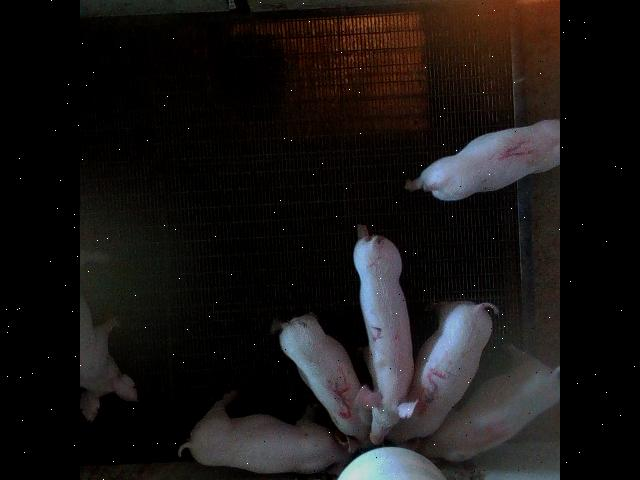pig-1: (420, 119, 559, 200)
pig-3: (389, 300, 498, 441)
pig-4: (405, 352, 559, 460)
pig-5: (279, 312, 371, 440)
